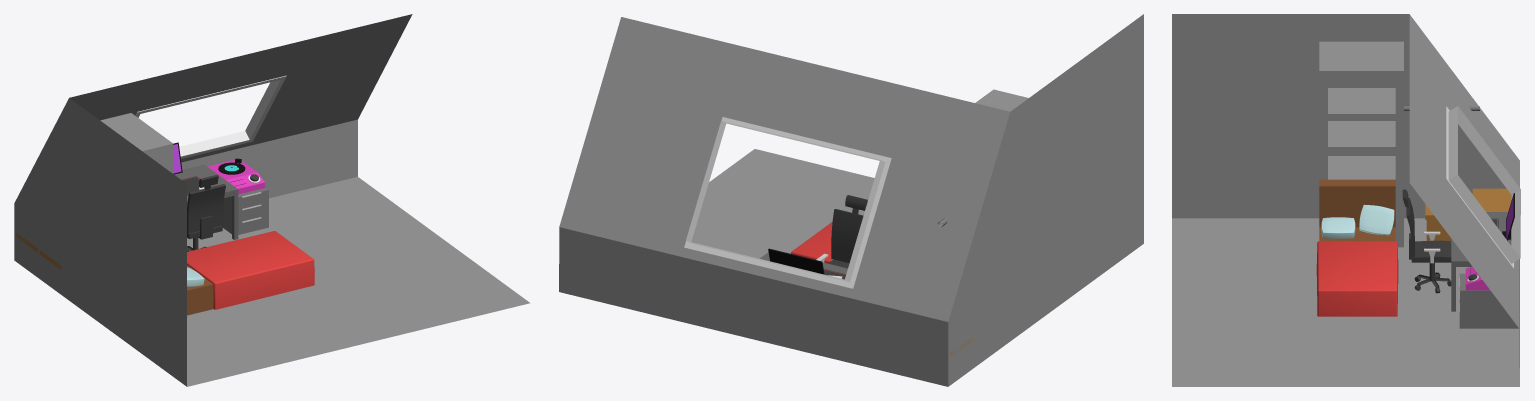
Rendered from lofiRoom.fbx.
3 views of the same model, side by side, from view 1: azimuth 30°, elevation 25°; view 2: azimuth 150°, elevation 25°; view 3: azimuth 270°, elevation 25° (orthographic). The views are drawn at different scales.
Parts seen in each view (by area): view 1: Plane, Cube.008, Cube.011, Cube.006, Cube.001, Cube.014, Cube, Cube.007; view 2: Plane, Cube.006, Cube.011, Cube.008, Cube.003; view 3: Plane, Cube.011, Cube.008, Cube.007, Cube.001, Cube.006, Cube.004, Cube.013, Cube, Cube.012, Cube.014.
Boxes of the visible parts, box(x1,y1,x2,y2) form: Plane: box(14, 14, 530, 386); Cube.008: box(187, 231, 314, 309); Cube.011: box(72, 113, 173, 327); Cube.006: box(187, 174, 225, 251); Cube.001: box(222, 187, 268, 234); Cube.014: box(207, 158, 264, 194); Cube: box(174, 164, 238, 239); Cube.007: box(187, 265, 213, 315); Plane: box(559, 14, 1143, 386); Cube.006: box(816, 195, 867, 268); Cube.011: box(975, 89, 1057, 338); Cube.008: box(791, 222, 833, 263); Cube.003: box(768, 248, 824, 274); Plane: box(1172, 14, 1520, 386); Cube.011: box(1319, 41, 1403, 247); Cube.008: box(1316, 241, 1398, 316); Cube.007: box(1319, 179, 1395, 241); Cube.001: box(1459, 273, 1518, 328); Cube.006: box(1402, 189, 1451, 293); Cube.004: box(1425, 188, 1511, 240); Cube.013: box(1359, 204, 1394, 235); Cube: box(1451, 212, 1511, 311); Cube.012: box(1321, 217, 1355, 238); Cube.014: box(1465, 266, 1489, 290).
Size of the model in its own units: 604 by 341 by 528.
